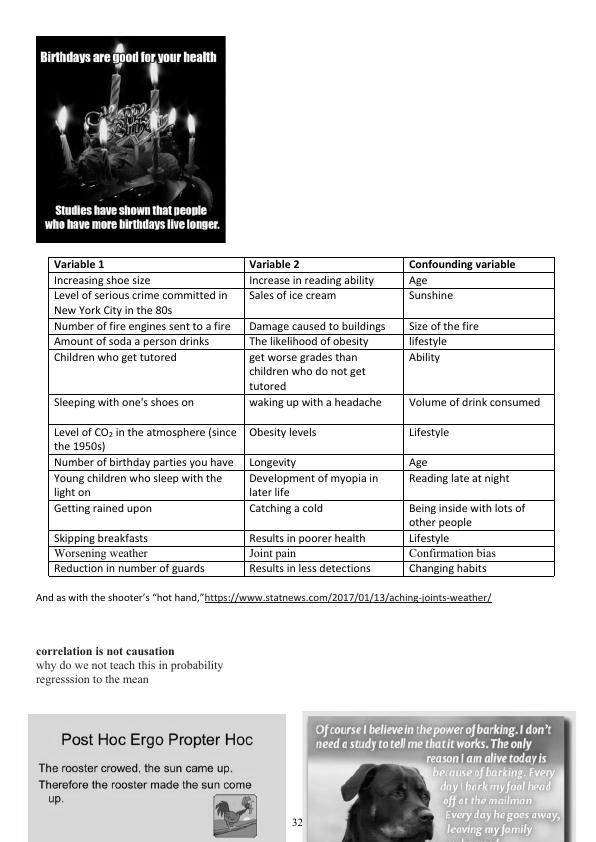table: (43, 251, 562, 581)
text: (28, 644, 234, 694), (32, 587, 497, 609)
